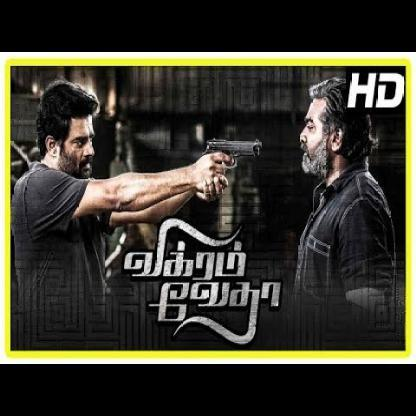Pistol: (201, 134, 262, 185)
